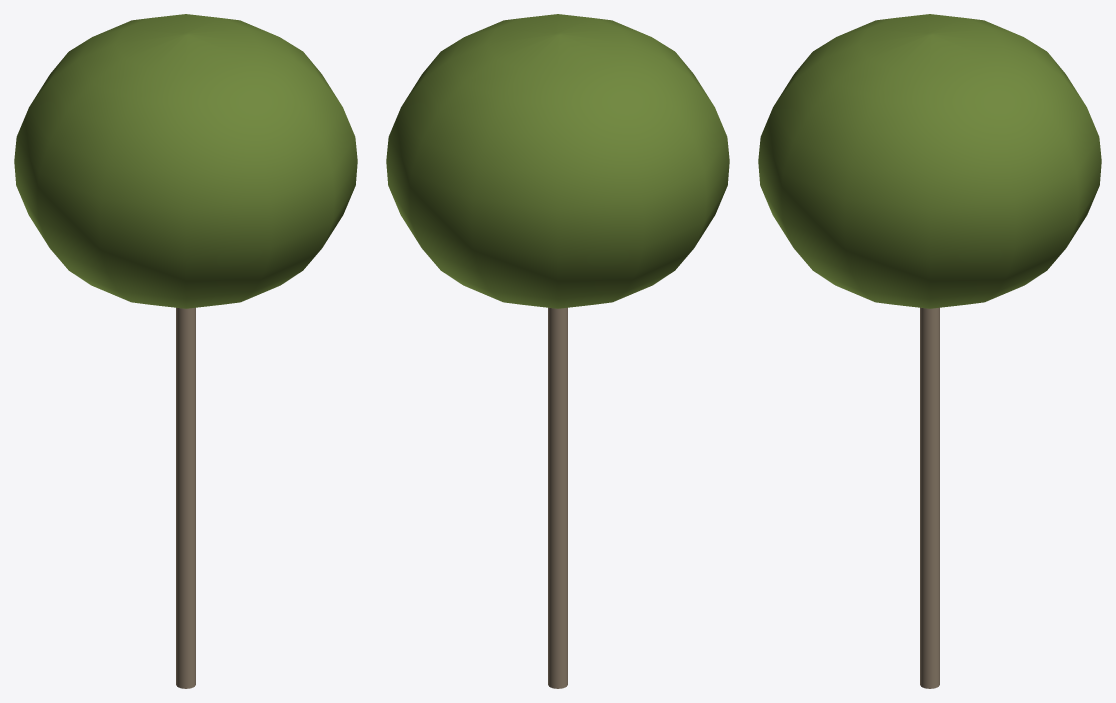
The model's file is Mexican_Palmetto_Analytical_0.obj.
The picture shows the model from 3 angles, left to right: view 1: azimuth 30°, elevation 25°; view 2: azimuth 150°, elevation 25°; view 3: azimuth 270°, elevation 25°; orthographic projection.
Visible parts, largest first — view 1: AnalyticalCrown, AnalyticalTrunk; view 2: AnalyticalCrown, AnalyticalTrunk; view 3: AnalyticalCrown, AnalyticalTrunk.
Boxes of the visible parts, left/top/right/bottom form: AnalyticalCrown: left=14, top=14, right=357, bottom=308; AnalyticalTrunk: left=176, top=307, right=195, bottom=688; AnalyticalCrown: left=386, top=14, right=729, bottom=308; AnalyticalTrunk: left=548, top=307, right=567, bottom=688; AnalyticalCrown: left=758, top=14, right=1101, bottom=308; AnalyticalTrunk: left=920, top=307, right=939, bottom=688.
Bounding box in the file's own units: 7.18 × 15 × 7.18.
